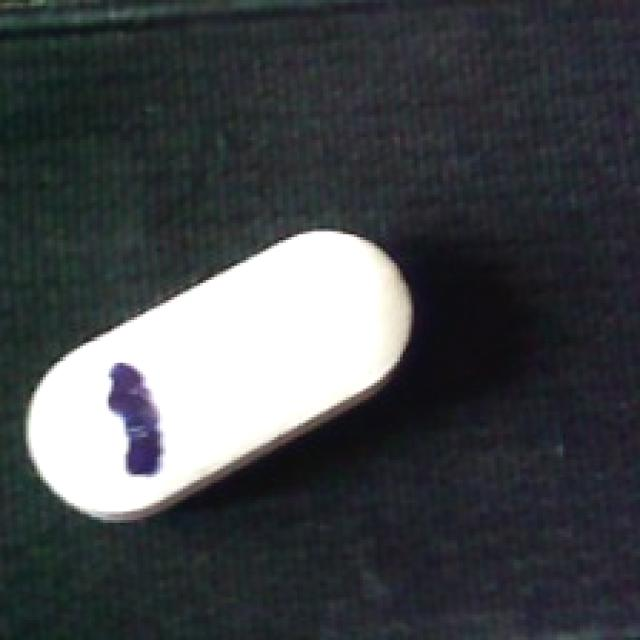defected: (17, 227, 426, 528)
